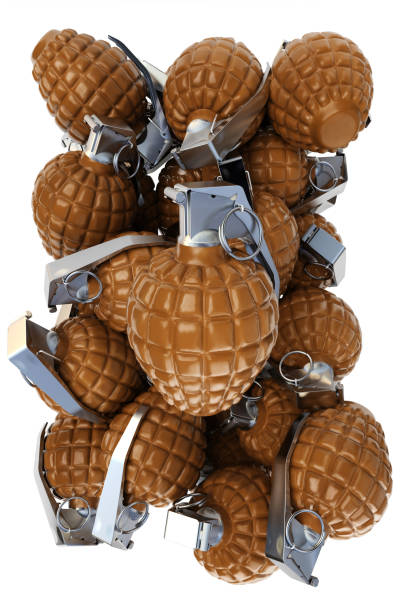e1: (123, 182, 282, 413), (266, 402, 394, 587)
